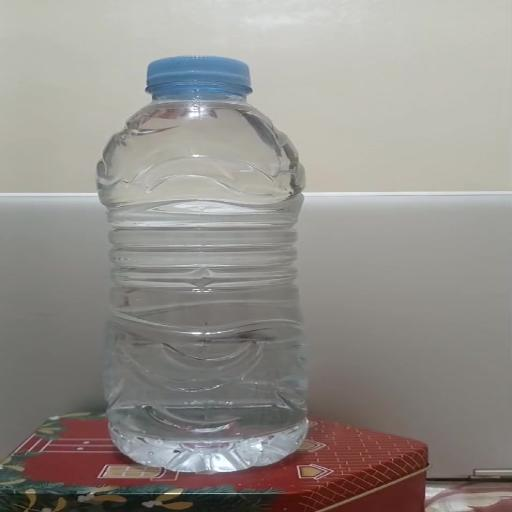bouteille non conformite: (57, 52, 348, 482), (0, 205, 327, 322)
